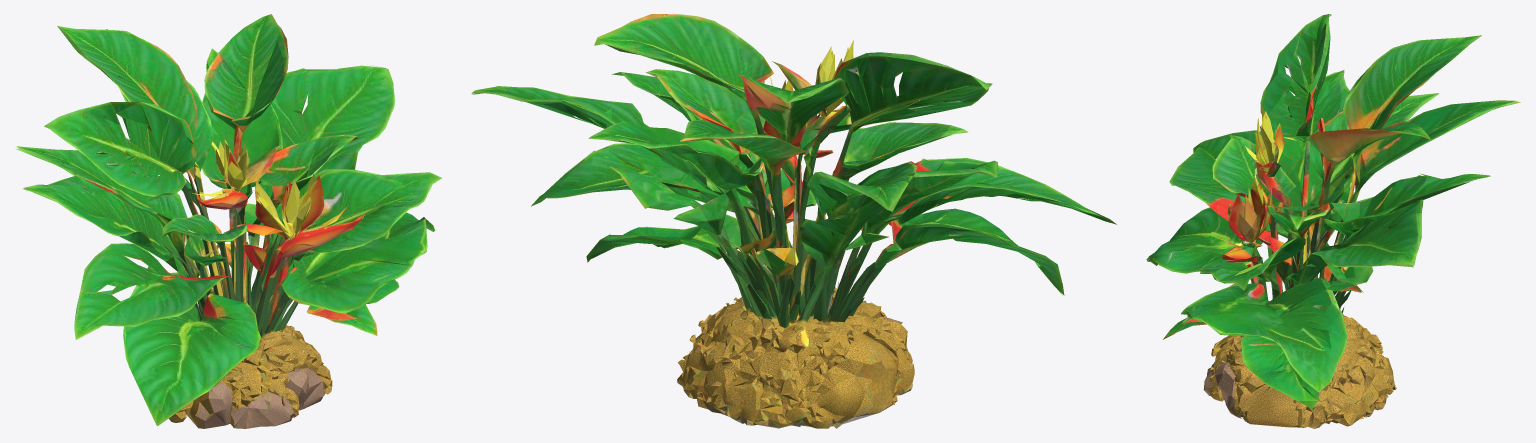
File: planta-selvagem.glb
3 views of the same model, side by side, from view 1: azimuth 30°, elevation 25°; view 2: azimuth 150°, elevation 25°; view 3: azimuth 270°, elevation 25° (orthographic). The views are drawn at different scales.
Visible parts, largest first — view 1: planta-selvagem; view 2: planta-selvagem; view 3: planta-selvagem.
Boxes of the visible parts, box(x1,y1,x2,y2) form: planta-selvagem: box(15, 14, 441, 428); planta-selvagem: box(471, 14, 1116, 428); planta-selvagem: box(1146, 14, 1520, 428).
Bounding box in the file's own units: 3.59 × 2.6 × 2.79.
Materials: 1 (1 with a texture image).
